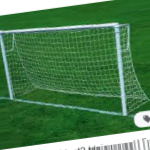goals: (1, 20, 150, 116)
